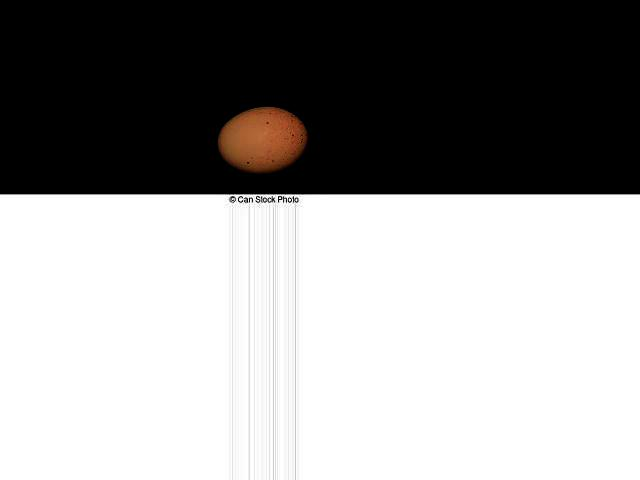egg: (217, 107, 307, 175)
